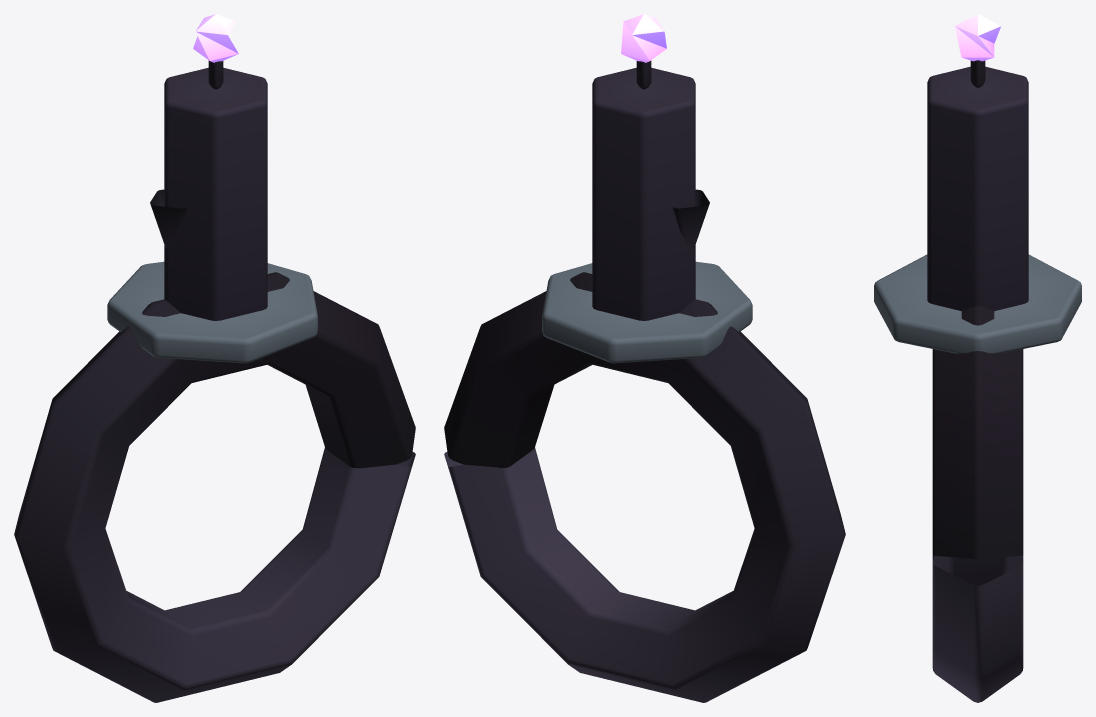
Rendered from lg_thirteenth_candle.glb.
The picture shows the model from 3 angles, left to right: view 1: azimuth 30°, elevation 25°; view 2: azimuth 150°, elevation 25°; view 3: azimuth 270°, elevation 25°; orthographic projection. The views are drawn at different scales.
Visible parts, largest first — view 1: lg_thirteenth_candle, lg_thirteenth_candle_glow; view 2: lg_thirteenth_candle, lg_thirteenth_candle_glow; view 3: lg_thirteenth_candle, lg_thirteenth_candle_glow.
Boxes of the visible parts, x1,y1,x2,y2 form: lg_thirteenth_candle: [14, 60, 415, 702]; lg_thirteenth_candle_glow: [193, 14, 238, 62]; lg_thirteenth_candle: [444, 60, 845, 702]; lg_thirteenth_candle_glow: [621, 14, 666, 62]; lg_thirteenth_candle: [874, 60, 1081, 702]; lg_thirteenth_candle_glow: [954, 14, 1001, 61].
Size of the model in its own units: 0.5032 by 0.8105 by 0.2316.
